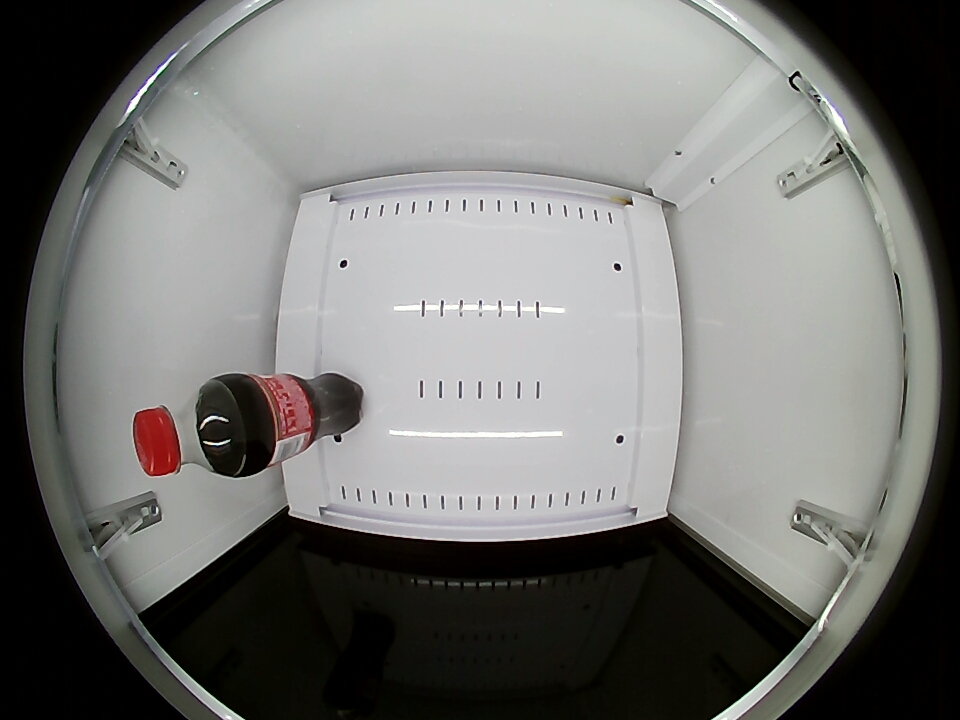kele-b: (133, 382, 242, 478)
